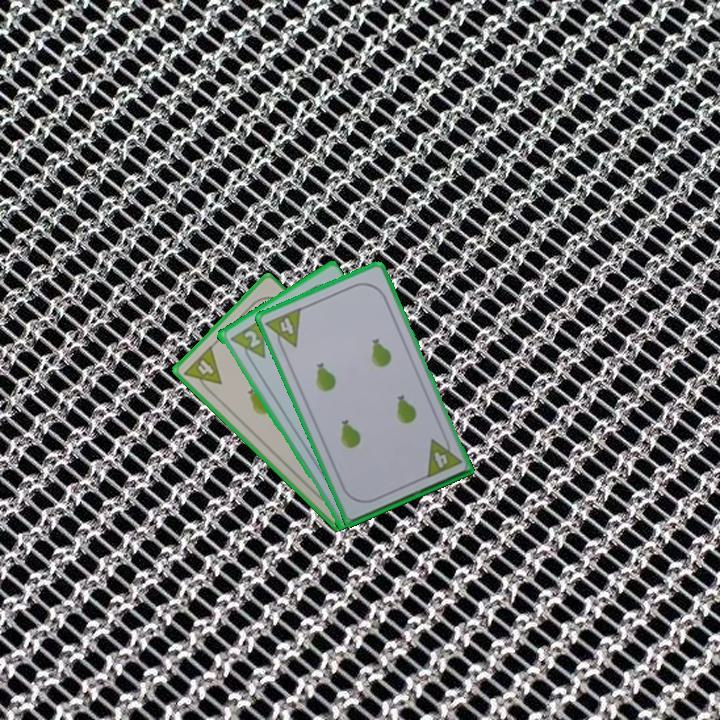2p: (226, 315, 268, 368)
4p: (180, 342, 224, 397), (262, 304, 304, 355), (422, 431, 464, 481)
